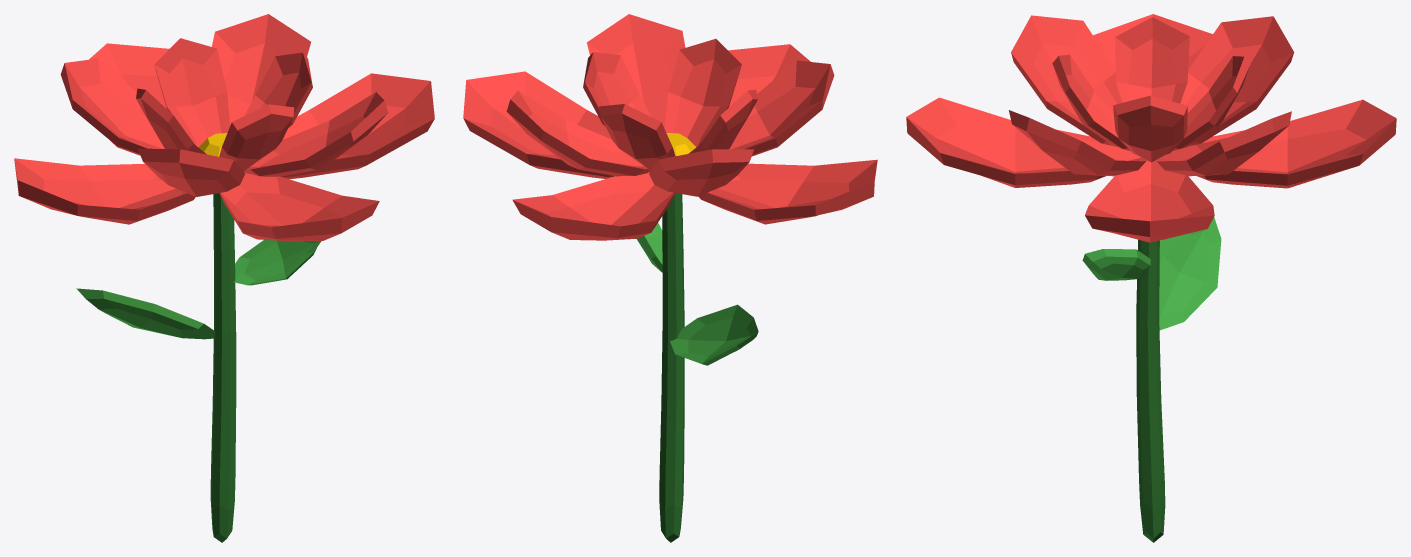
The model's file is Red_Flower.fbx.
The picture shows the model from 3 angles, left to right: view 1: azimuth 30°, elevation 25°; view 2: azimuth 150°, elevation 25°; view 3: azimuth 270°, elevation 25°; orthographic projection. The views are drawn at different scales.
Visible parts, largest first — view 1: pCube21.012, pCube23.002, pCube22.012, pCube21.013, pCube22.017, pCube21.014, pCube22.015, pCube21.015, pCube22.014, pCube24.002, pCube22.016, pCube25.002 (+3 smaller); view 2: pCube21.012, pCube23.002, pCube22.013, pCube21.013, pCube22.016, pCube22.014, pCube21.015, pCube22.015, pCube21.014, pCube24.002, pCube22.017, pCube21.017 (+3 smaller); view 3: pCube22.013, pCube22.012, pCube21.013, pCube23.002, pCube21.014, pCube22.014, pCube21.016, pCube24.002, pCube21.017, pCube21.015, pCube22.015, pCube22.017 (+3 smaller).
Part boxes in pixels (<box>): pCube21.012: <box>14,158,195,224</box>; pCube23.002: <box>210,193,236,542</box>; pCube22.012: <box>219,172,379,241</box>; pCube21.013: <box>281,73,434,179</box>; pCube22.017: <box>154,38,230,147</box>; pCube21.014: <box>60,58,164,155</box>; pCube22.015: <box>211,14,310,125</box>; pCube21.015: <box>243,92,388,176</box>; pCube22.014: <box>138,148,245,196</box>; pCube24.002: <box>76,288,214,339</box>; pCube22.016: <box>219,104,294,171</box>; pCube25.002: <box>234,240,321,285</box>; pCube21.012: <box>698,159,877,224</box>; pCube23.002: <box>659,193,684,542</box>; pCube22.013: <box>512,172,674,240</box>; pCube21.013: <box>463,71,614,178</box>; pCube22.016: <box>664,39,741,146</box>; pCube22.014: <box>729,60,834,156</box>; pCube21.015: <box>586,14,685,128</box>; pCube22.015: <box>506,90,650,176</box>; pCube21.014: <box>649,149,753,196</box>; pCube24.002: <box>670,304,758,365</box>; pCube22.017: <box>599,104,675,170</box>; pCube21.017: <box>583,52,651,126</box>; pCube22.013: <box>1197,99,1396,188</box>; pCube22.012: <box>906,97,1105,187</box>; pCube21.013: <box>1085,160,1214,242</box>; pCube23.002: <box>1136,239,1165,542</box>; pCube21.014: <box>1180,16,1294,145</box>; pCube22.014: <box>1011,15,1122,145</box>; pCube21.016: <box>1115,17,1189,103</box>; pCube24.002: <box>1159,217,1221,330</box>; pCube21.017: <box>1113,95,1187,162</box>; pCube21.015: <box>1008,110,1146,176</box>; pCube22.015: <box>1156,111,1291,176</box>; pCube22.017: <box>1172,56,1250,151</box>.
Bounding box in the file's own units: 330 × 362 × 330.
